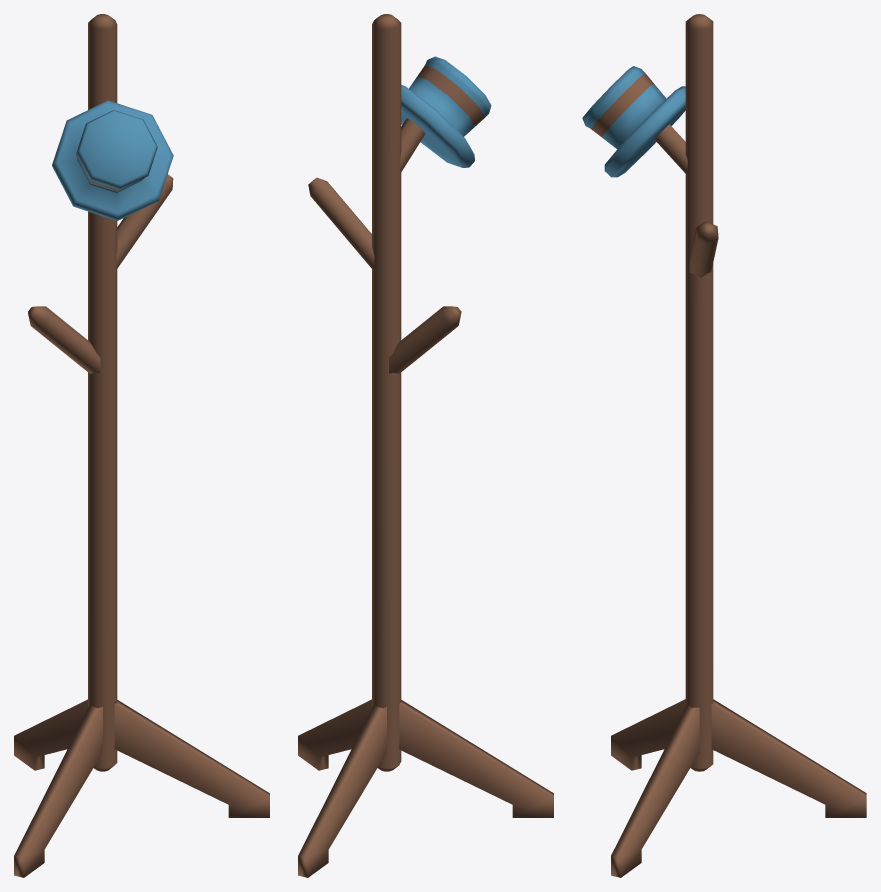
Rendered from mesh_coatrack_01.fbx.
The picture shows the model from 3 angles, left to right: view 1: azimuth 30°, elevation 25°; view 2: azimuth 150°, elevation 25°; view 3: azimuth 270°, elevation 25°; orthographic projection.
Parts seen in each view (by area): view 1: mesh_coatrack_01; view 2: mesh_coatrack_01; view 3: mesh_coatrack_01.
Part boxes in pixels (x1,y1,x2,y2): mesh_coatrack_01: (14,14,269,877); mesh_coatrack_01: (298,14,553,877); mesh_coatrack_01: (582,14,866,877).
Bounding box in the file's own units: 20.19 × 60.24 × 19.45.
